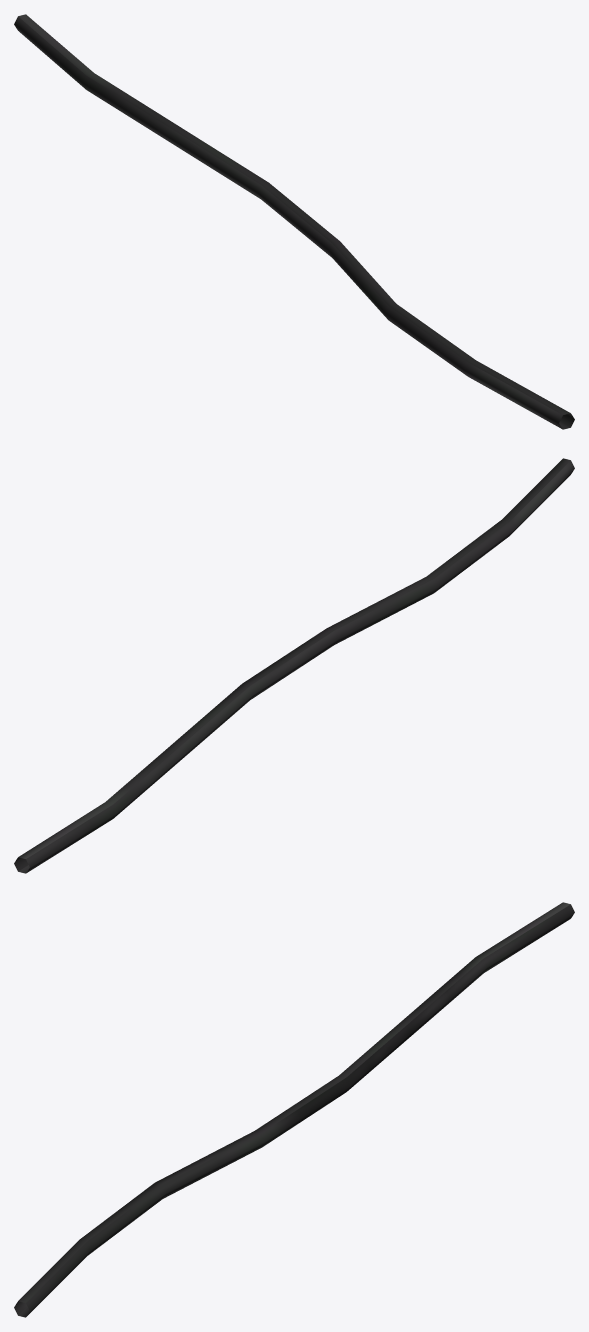
Rendered from electrical_small.dae.
The picture shows the model from 3 angles, top to bottom: view 1: azimuth 30°, elevation 25°; view 2: azimuth 150°, elevation 25°; view 3: azimuth 330°, elevation 25°; orthographic projection.
Visible parts, largest first — view 1: Mesh; view 2: Mesh; view 3: Mesh.
Boxes of the visible parts, x1,y1,x2,y2 form: Mesh: (14, 14, 574, 429); Mesh: (14, 458, 574, 873); Mesh: (14, 902, 574, 1317).
Size of the model in its own units: 0.0469 by 0.0151 by 1.
